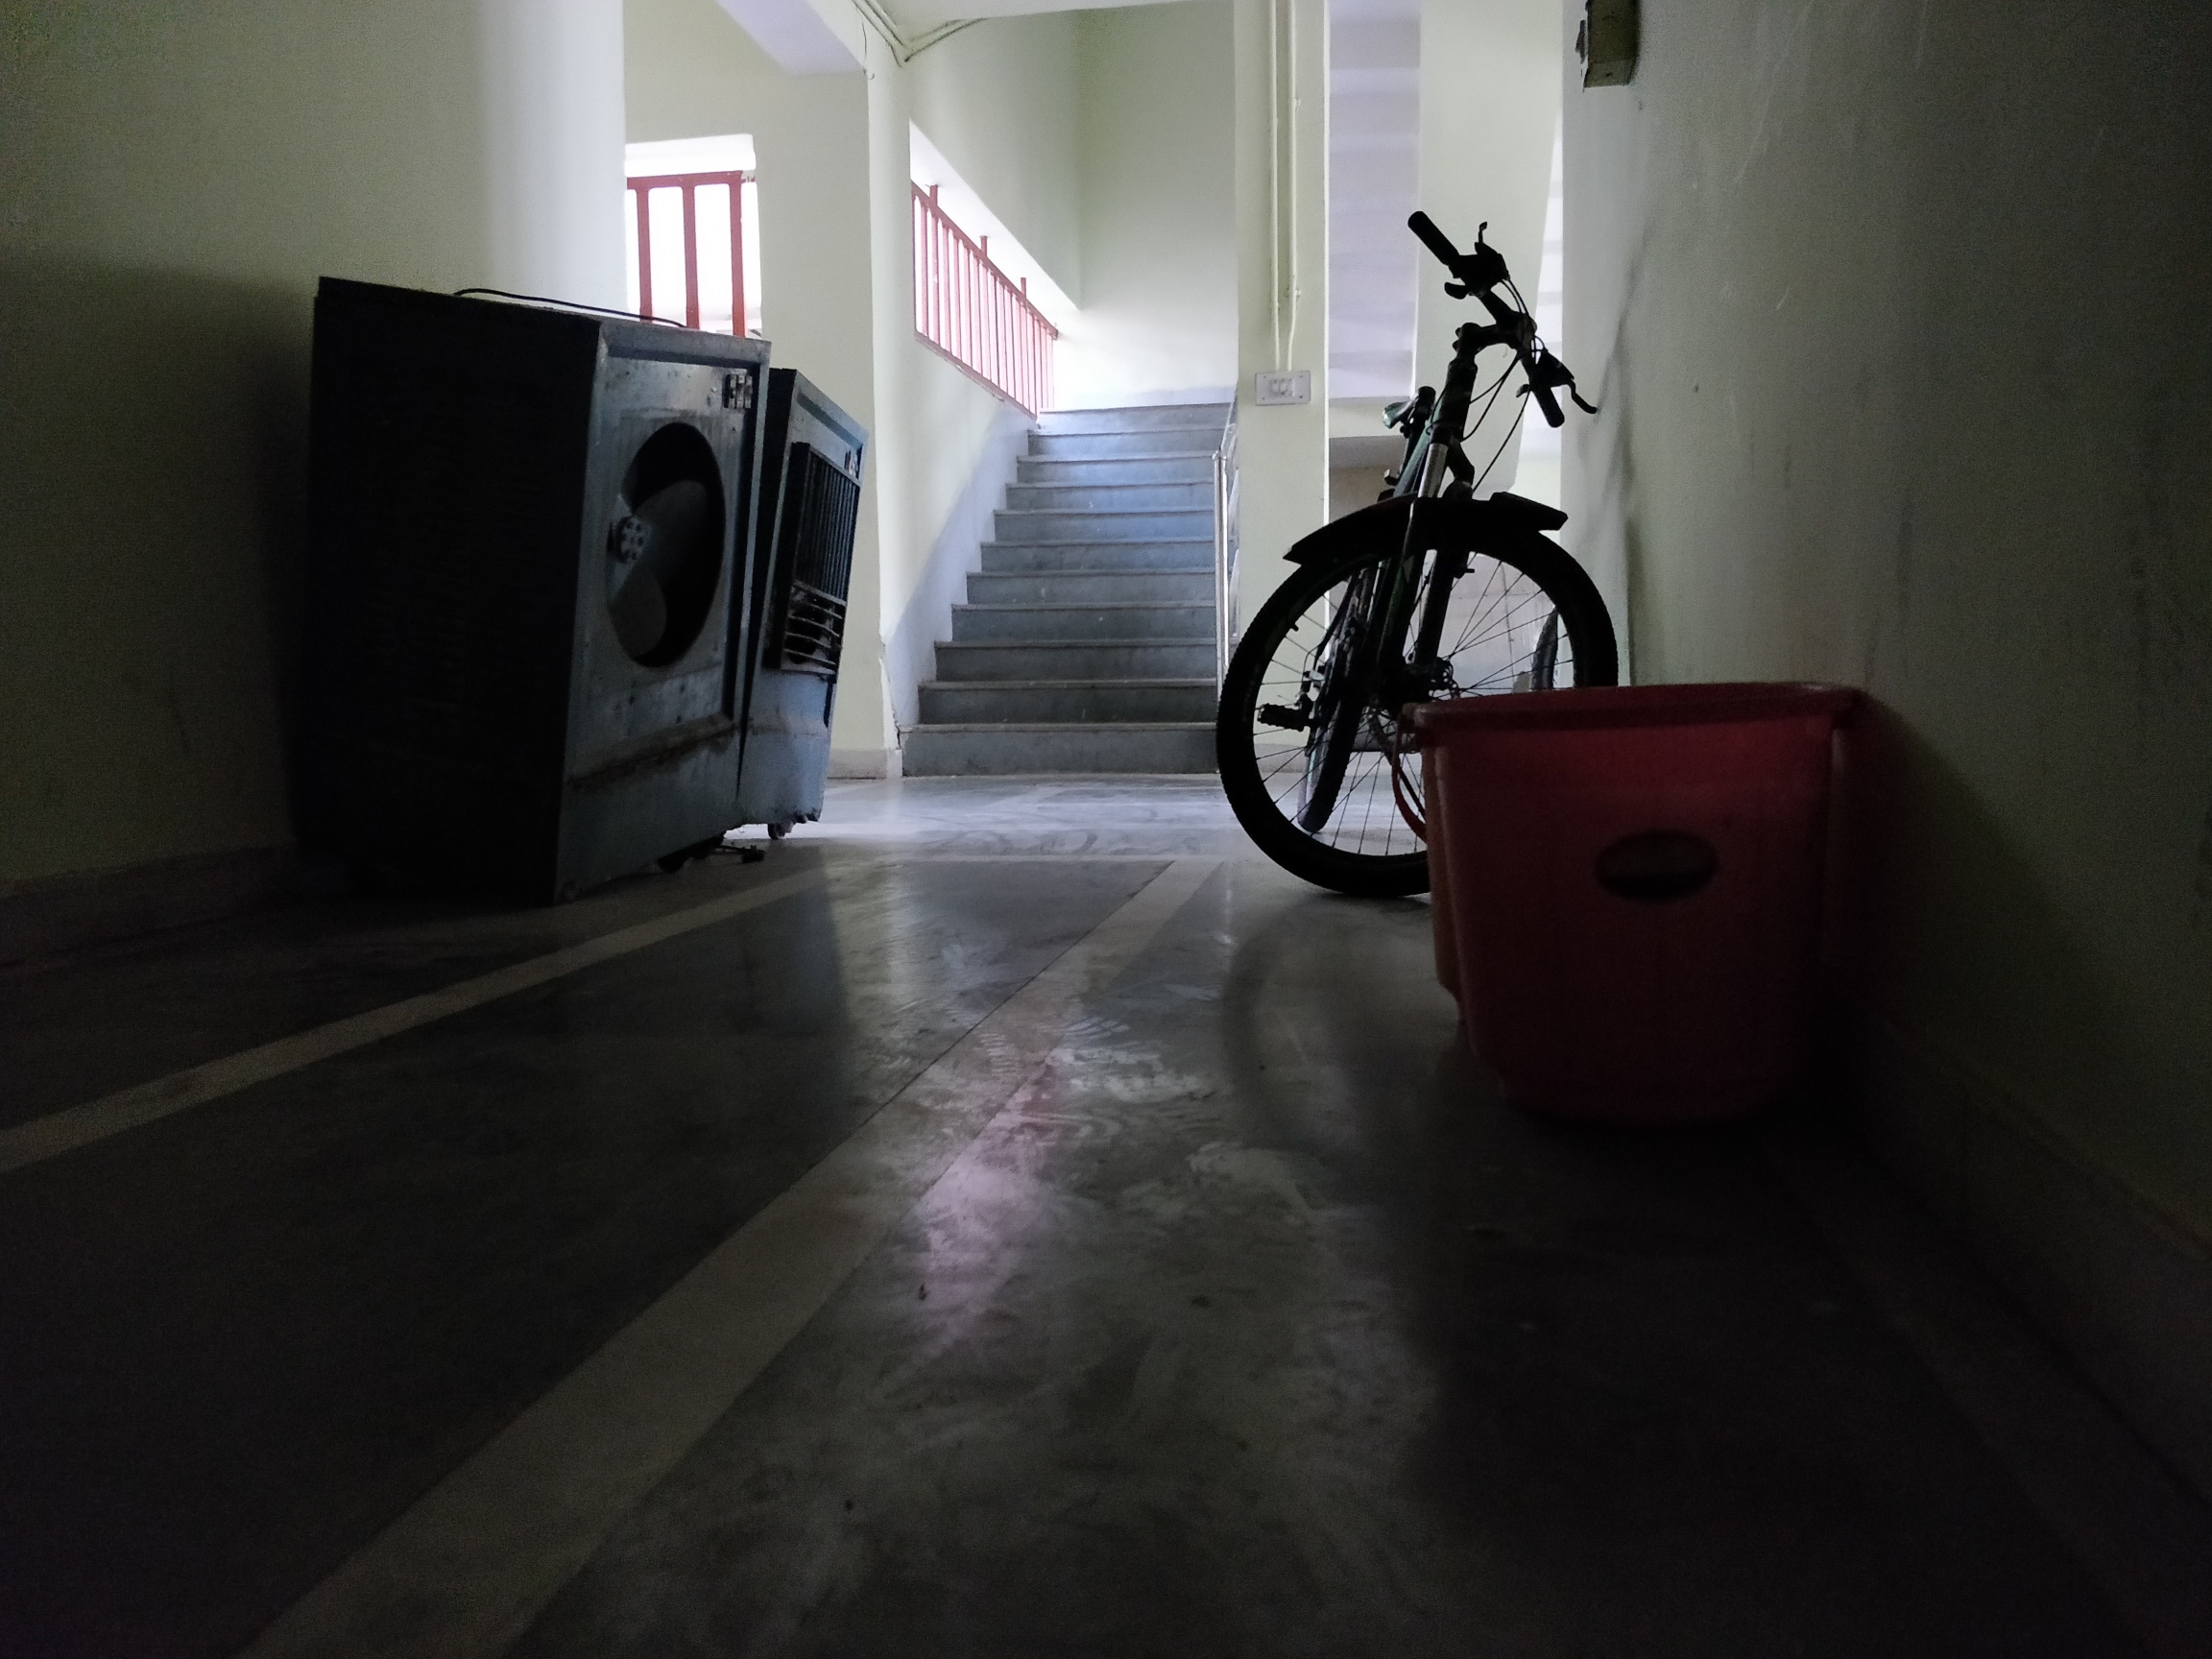stairs_up: (892, 390, 1240, 769)
